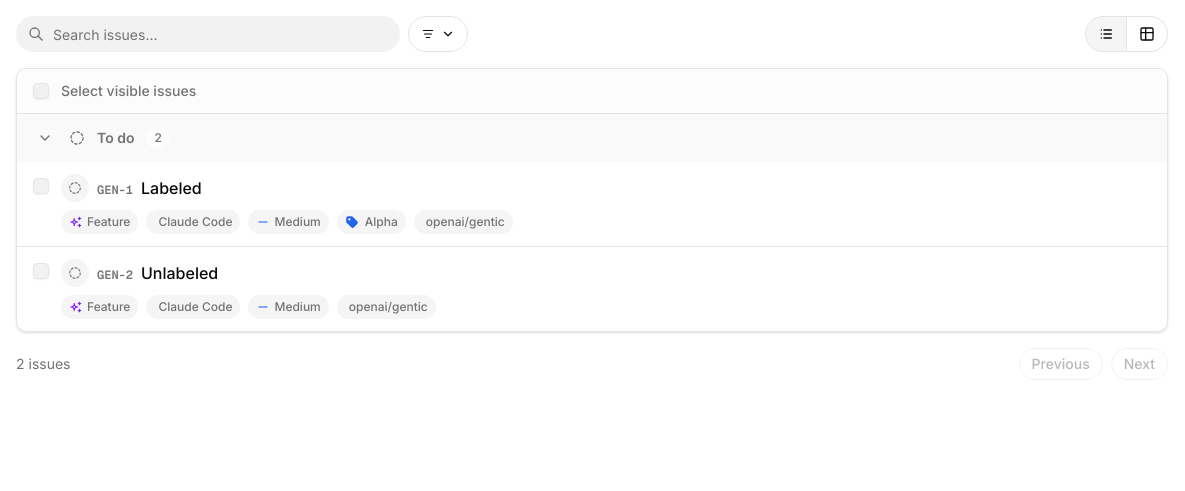
IssuesView Label discovery › makes No labels mutually exclusive with specific Labels
This screenshot has width=1185, height=491.
Click the button named "Filters".
click(438, 34)  # box [408,16,468,52]
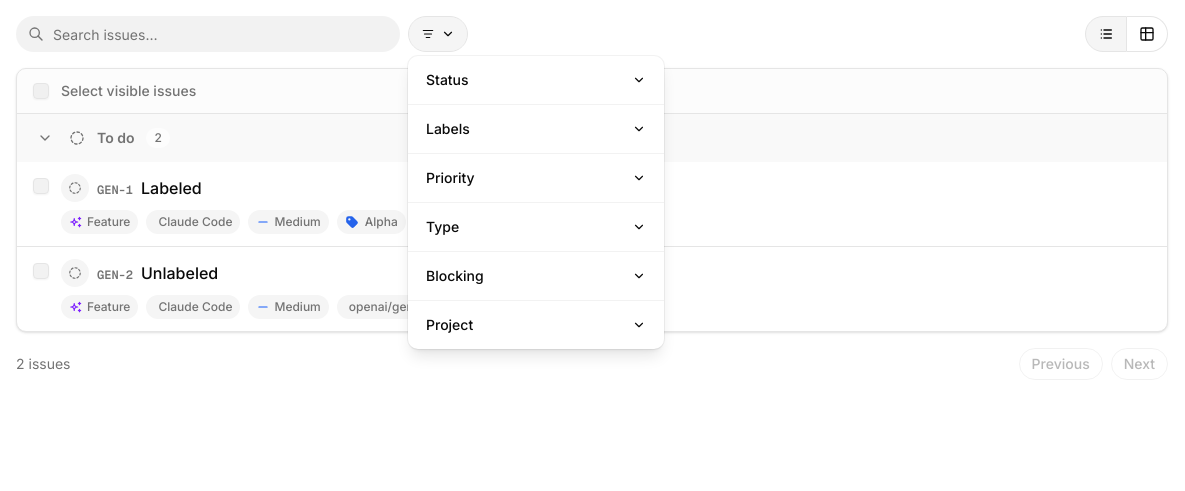
Click the menu item "Labels".
click(448, 128)  # box [426,120,646,137]
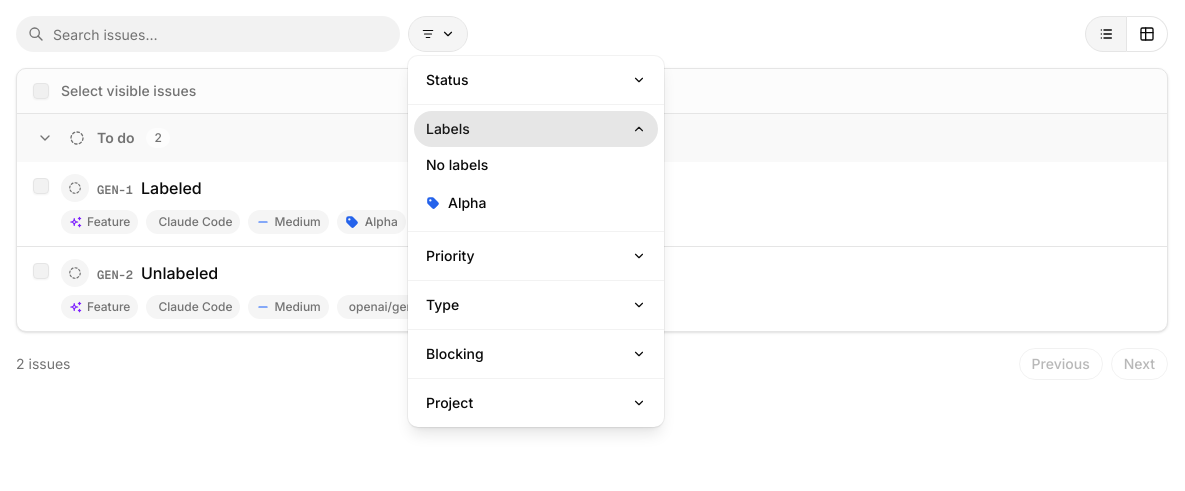
Click the menu item "Alpha".
click(456, 202)  # box [426,194,486,211]
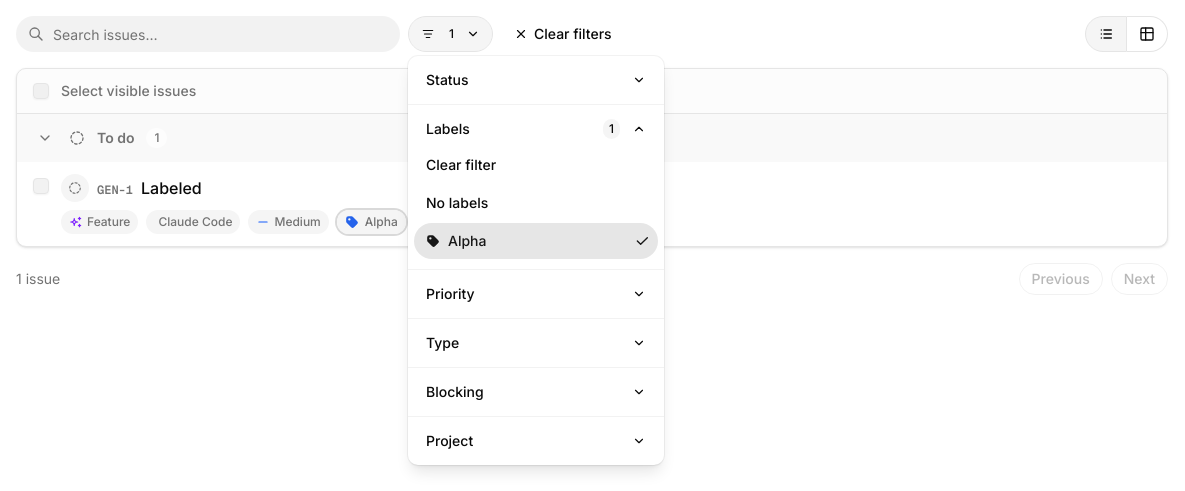
Click the menu item "No labels".
click(457, 202)  # box [426,194,488,211]
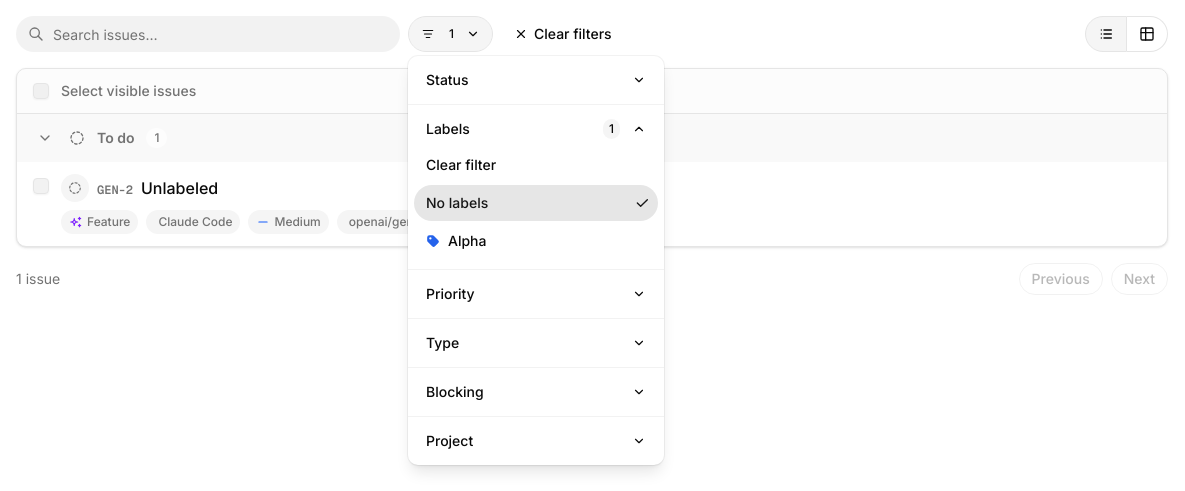
Check: the text "Unlabeled" is shown, box [141,176,218,200]
